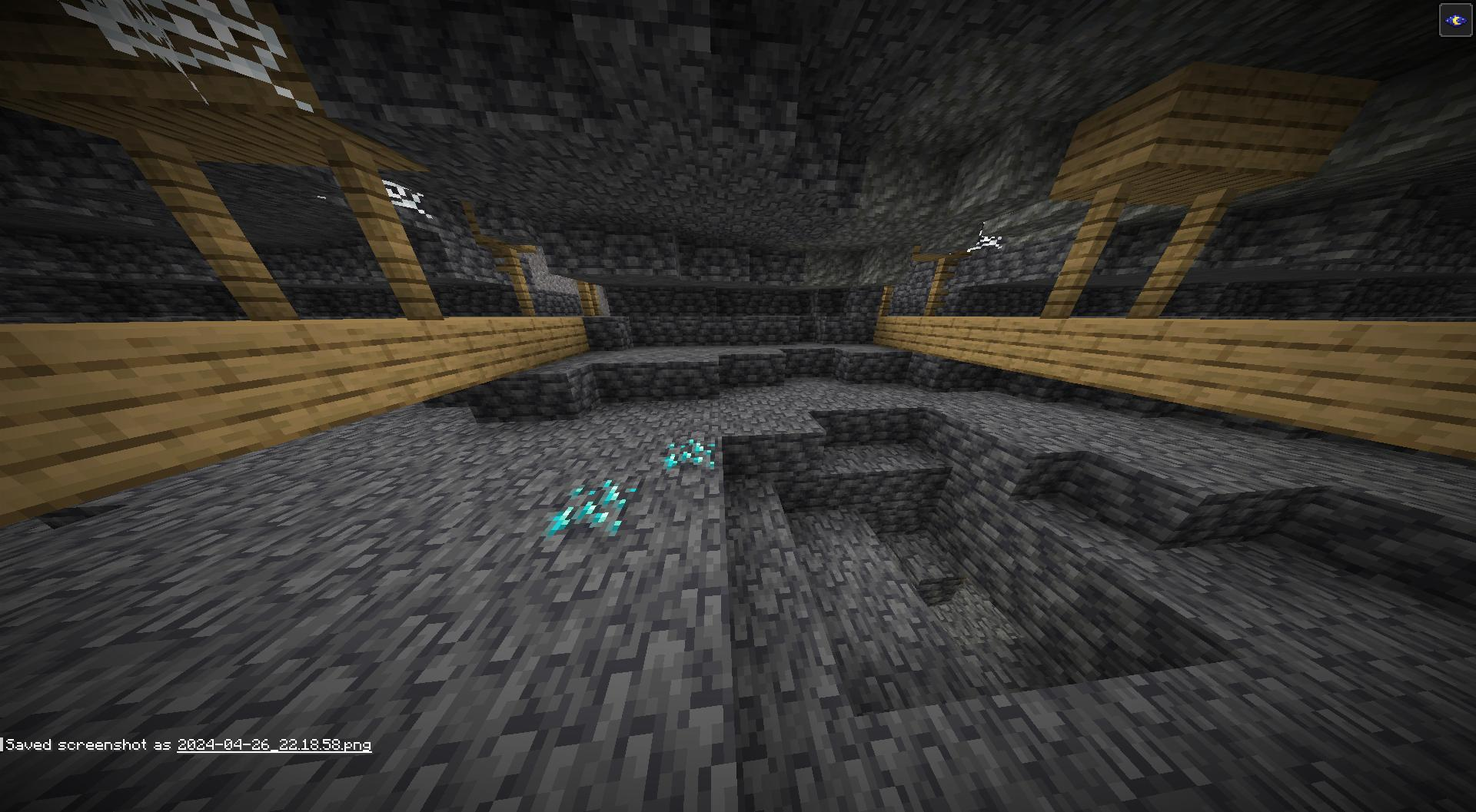diamond ore: (544, 476, 633, 539), (663, 433, 720, 477)
